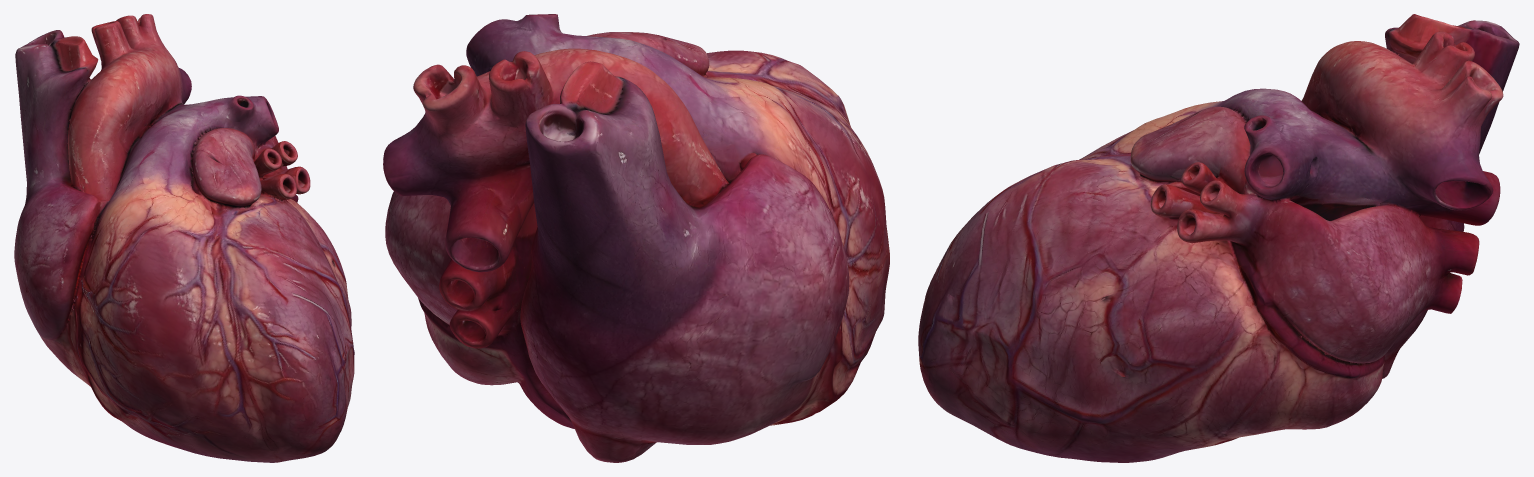
Rendered from heart.glb.
3 renders of one model, left to right at view 1: azimuth 30°, elevation 25°; view 2: azimuth 150°, elevation 25°; view 3: azimuth 270°, elevation 25°, orthographic. The views are drawn at different scales.
Parts seen in each view (by area): view 1: Mesh_0; view 2: Mesh_0; view 3: Mesh_0.
Part boxes in pixels (x1=…): Mesh_0: x1=14, y1=14, x2=354, y2=462; Mesh_0: x1=383, y1=14, x2=889, y2=462; Mesh_0: x1=918, y1=14, x2=1519, y2=462.
Size of the model in its own units: 26.36 by 30 by 40.46.
Materials: 1 (1 with a texture image).
